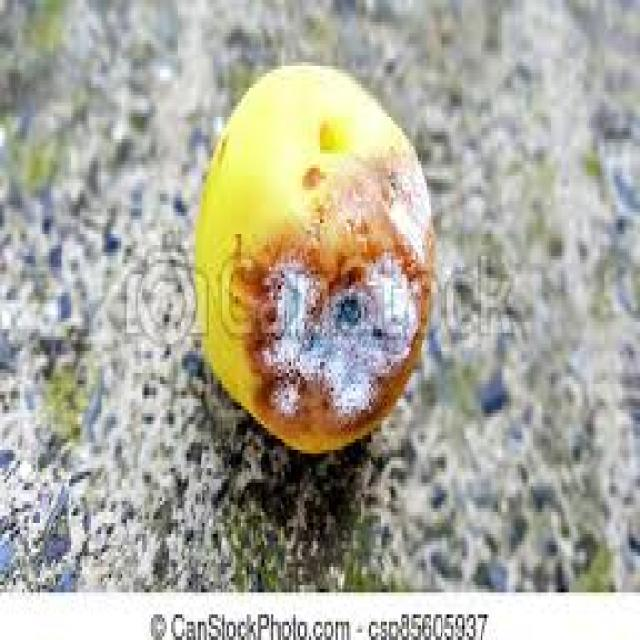biodegradable: (191, 59, 429, 446)
